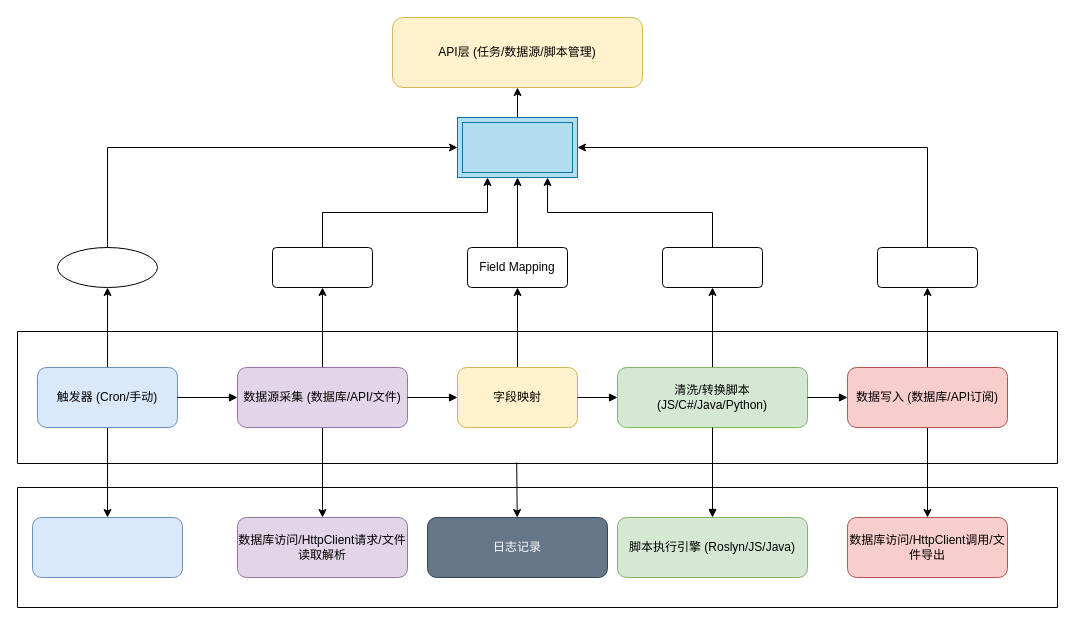
This 1075x625 diagram has some shape labels left out. The centre of each missing label's shape, as x and y in pixels:
"Data Source" goes at point 322,267.
"ETLJob" goes at point 517,147.
"Schedule Cron" goes at point 107,267.
"Target Sink" goes at point 927,267.
"Transform Script" goes at point 712,267.
"调度器" goes at point 107,547.
